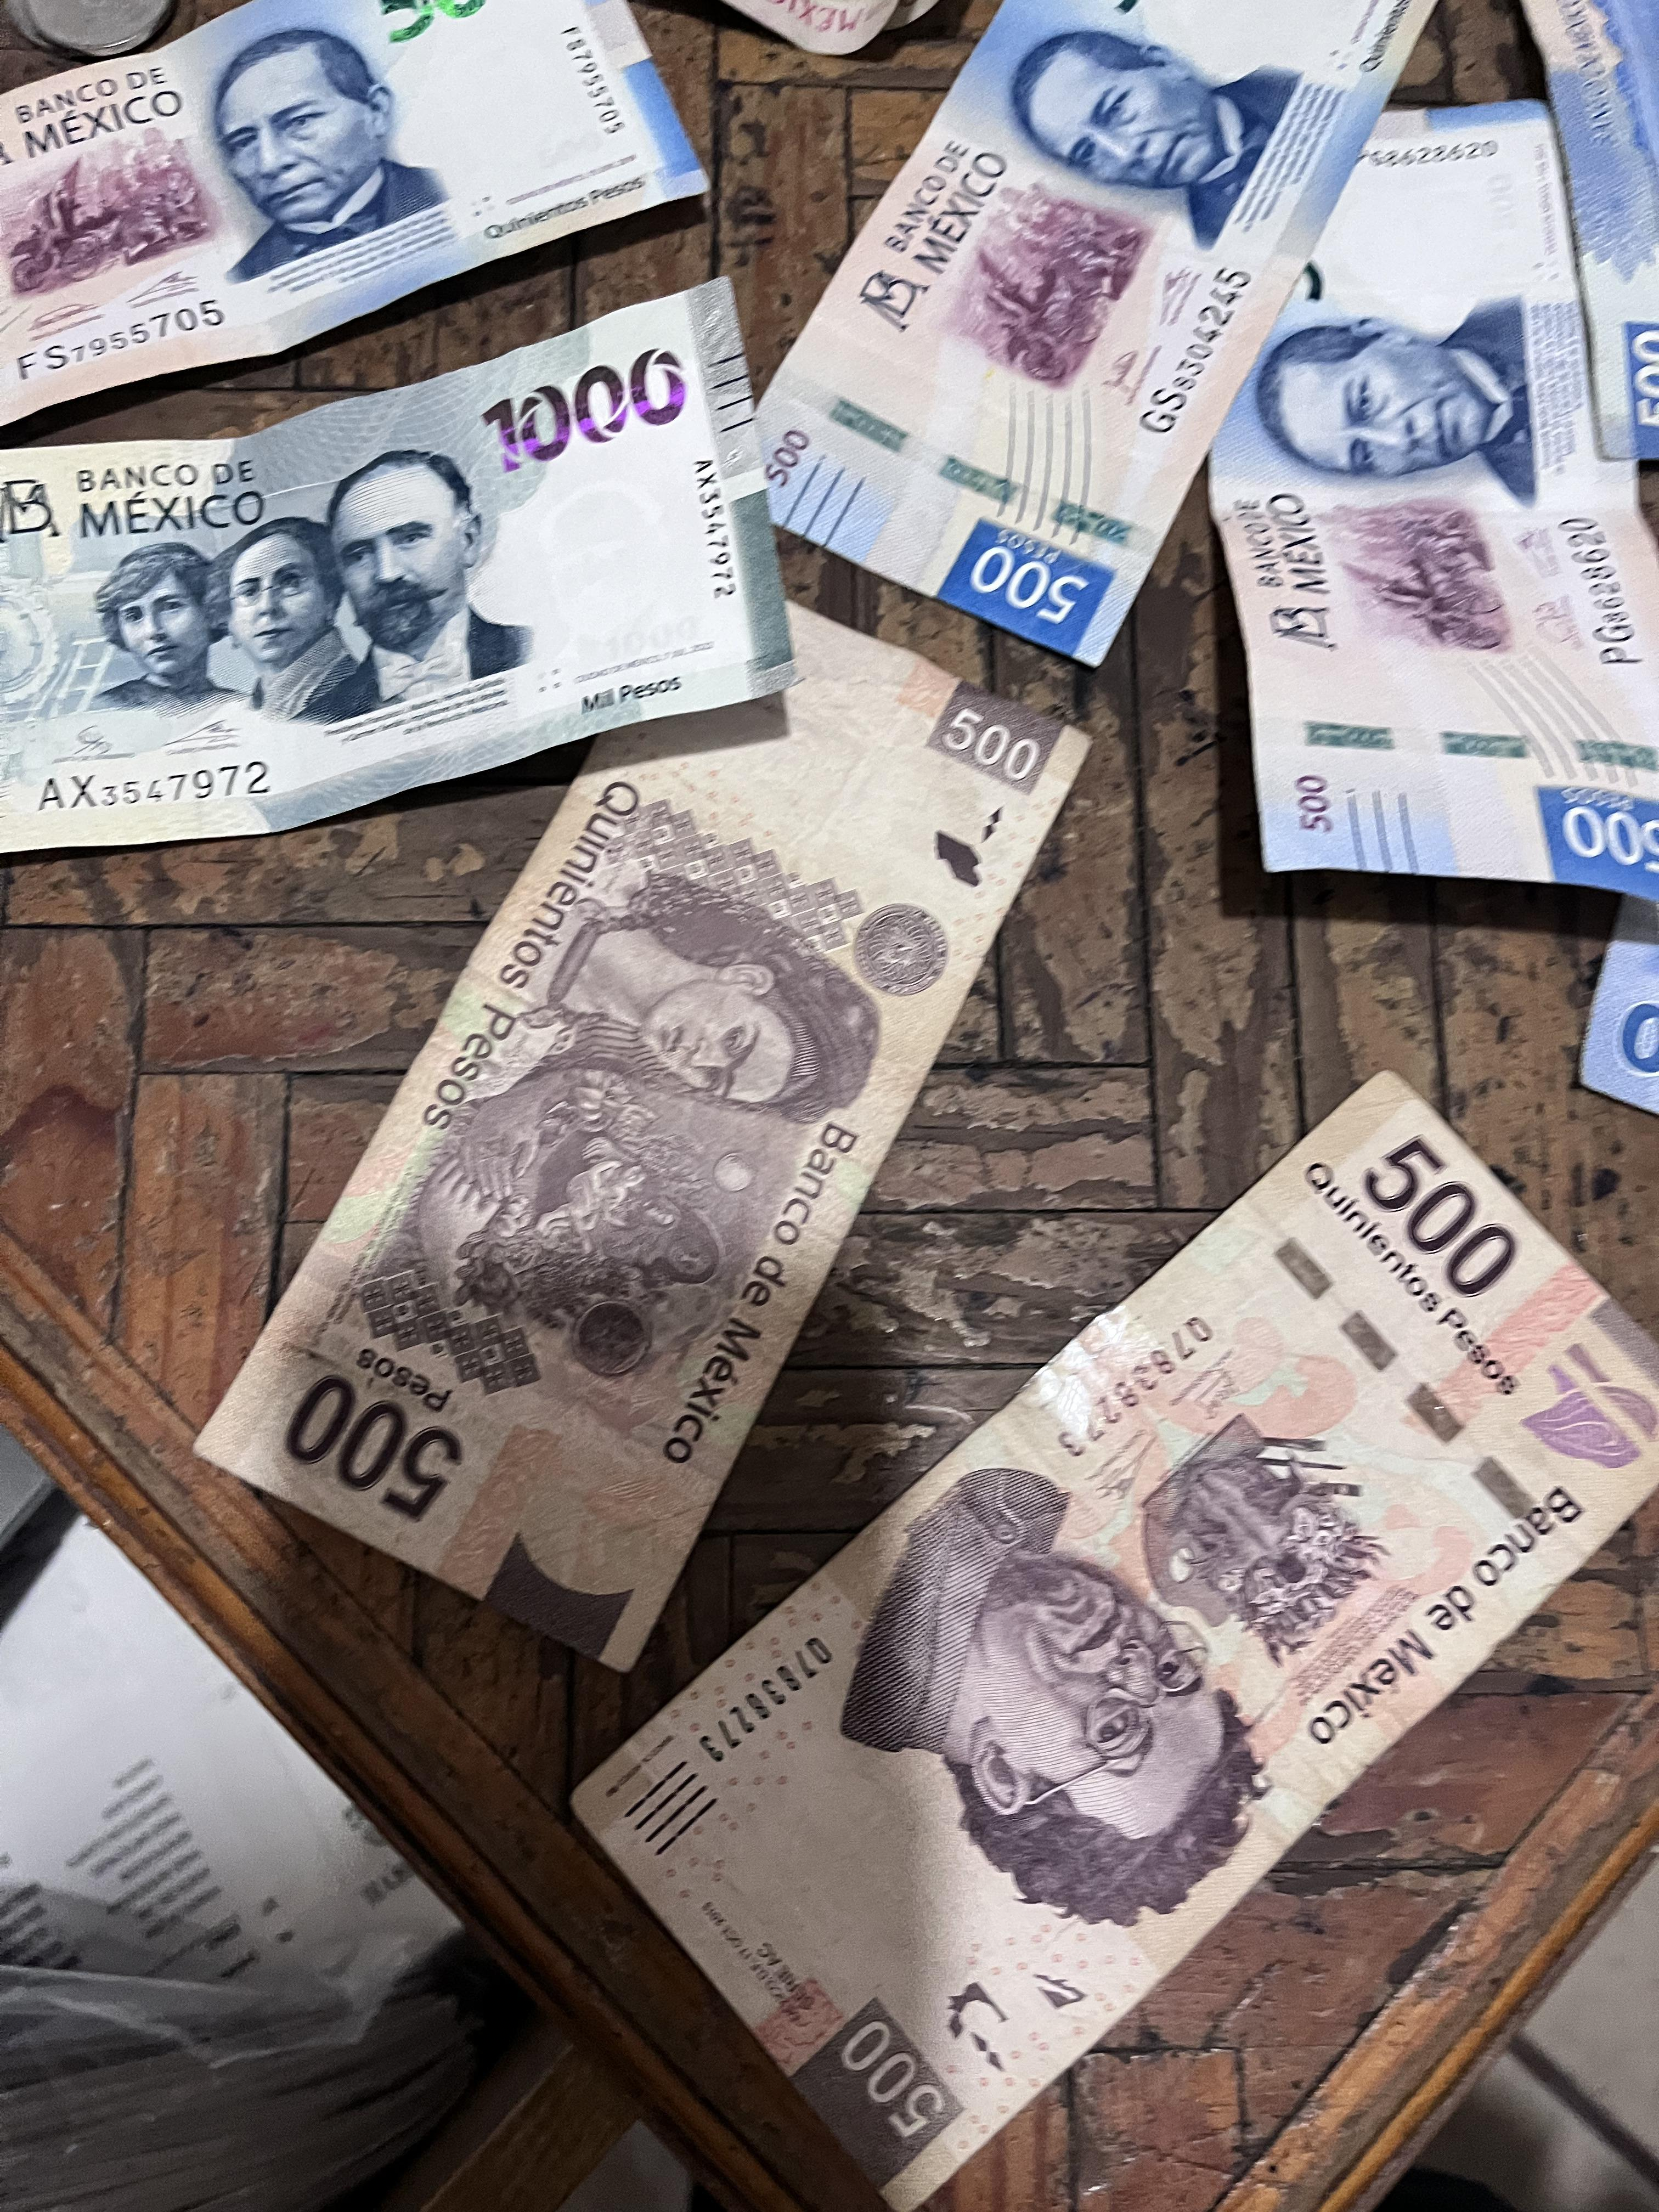1000: (0, 249, 788, 874)
500: (570, 1042, 1659, 2186), (181, 524, 1110, 1665)
500 nuevo: (1182, 71, 1659, 916), (788, 0, 1405, 639), (0, 0, 809, 343)
